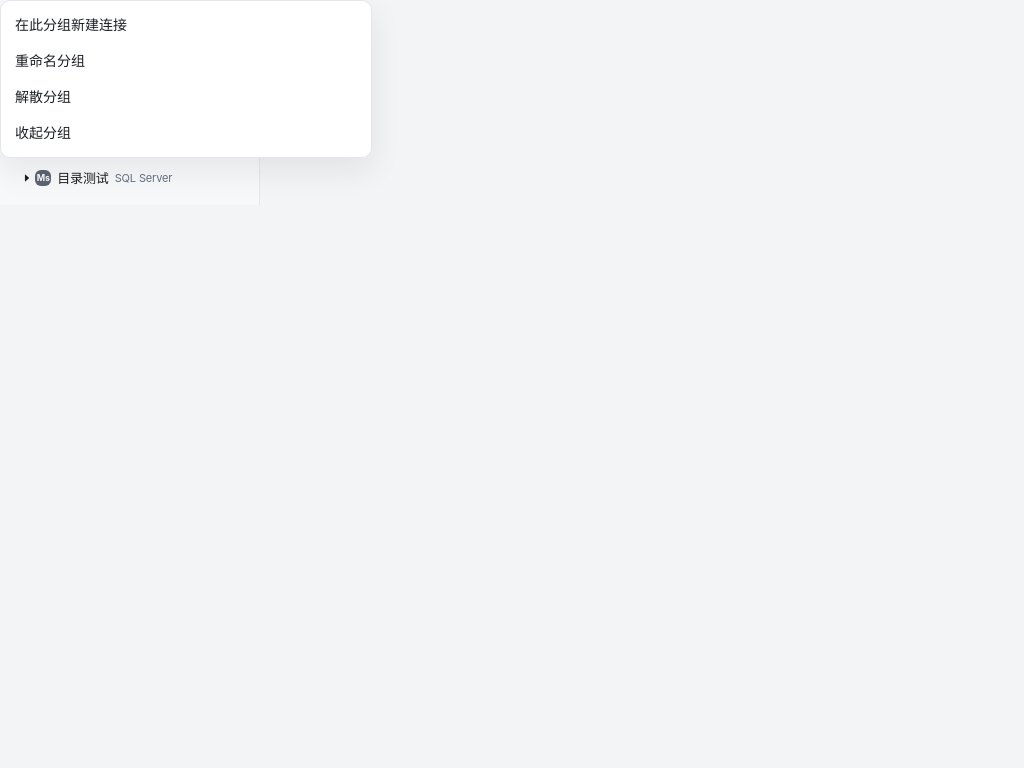
Scenario: 解散可取消，保存失败保留原树，再次提交后展开上移的子组和未分组
Earlier steps of the test are not shown.
Later steps or results of the test are not shown.
Step 1. Click the button "解散分组" → (43, 96), box [7,79,365,115]
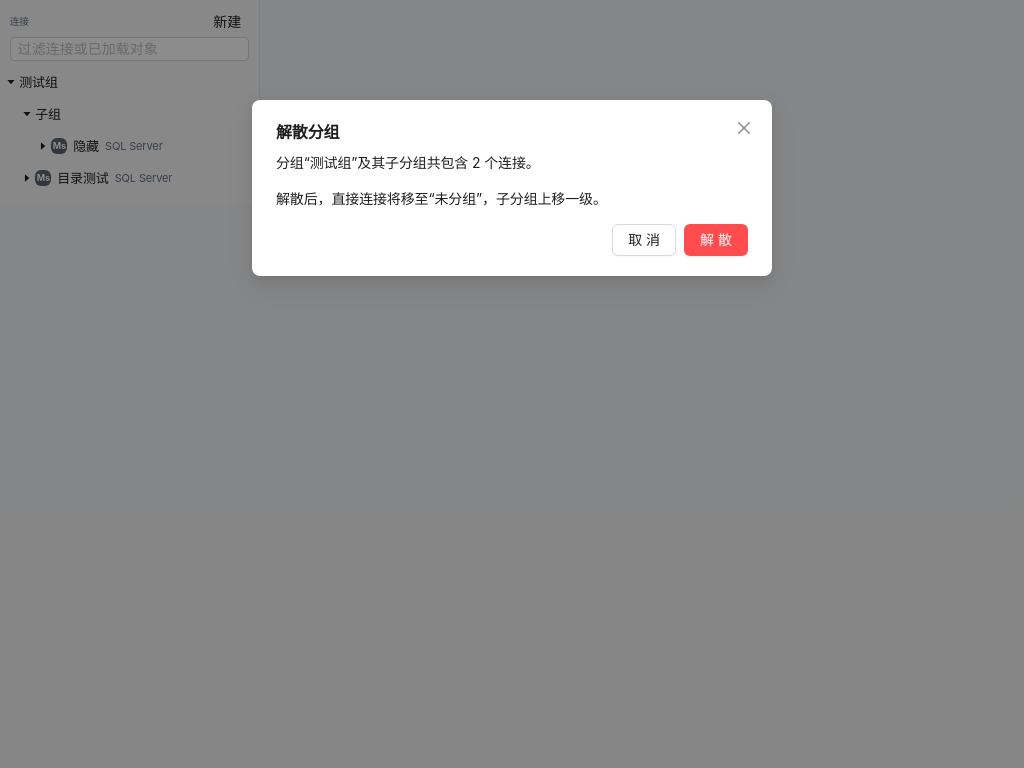
Step 2. Click the button "取 消" → (644, 240), box [612,224,676,256]
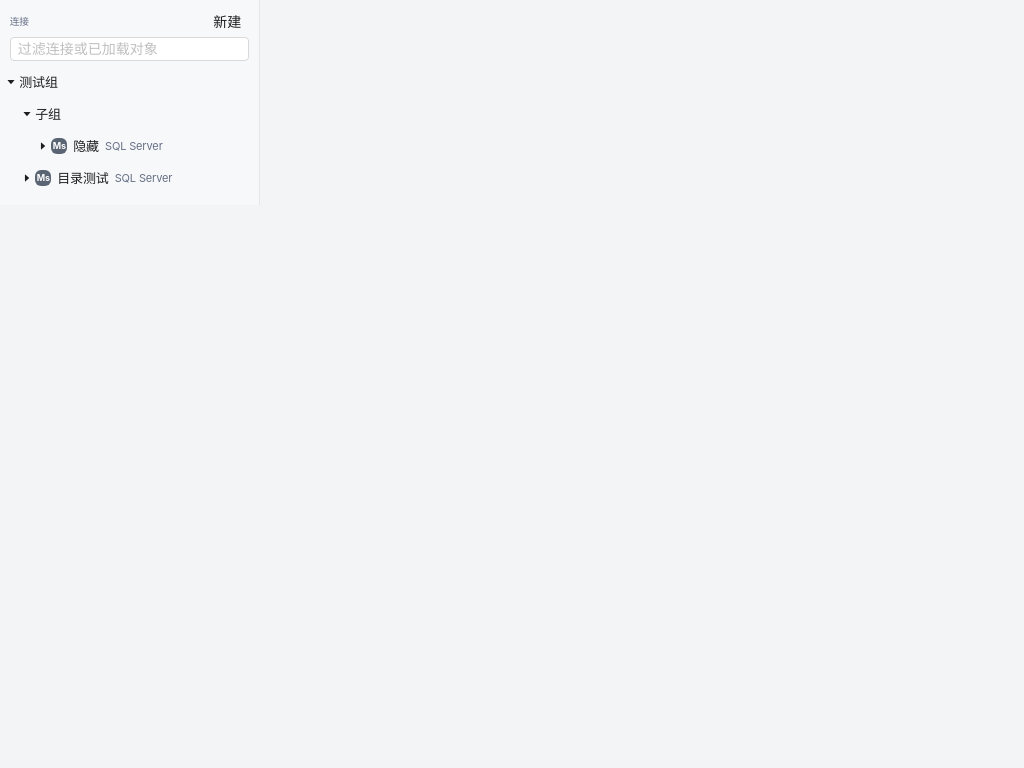
Step 3. Right-click the text "测试组" → (39, 82), box [19,74,58,90]
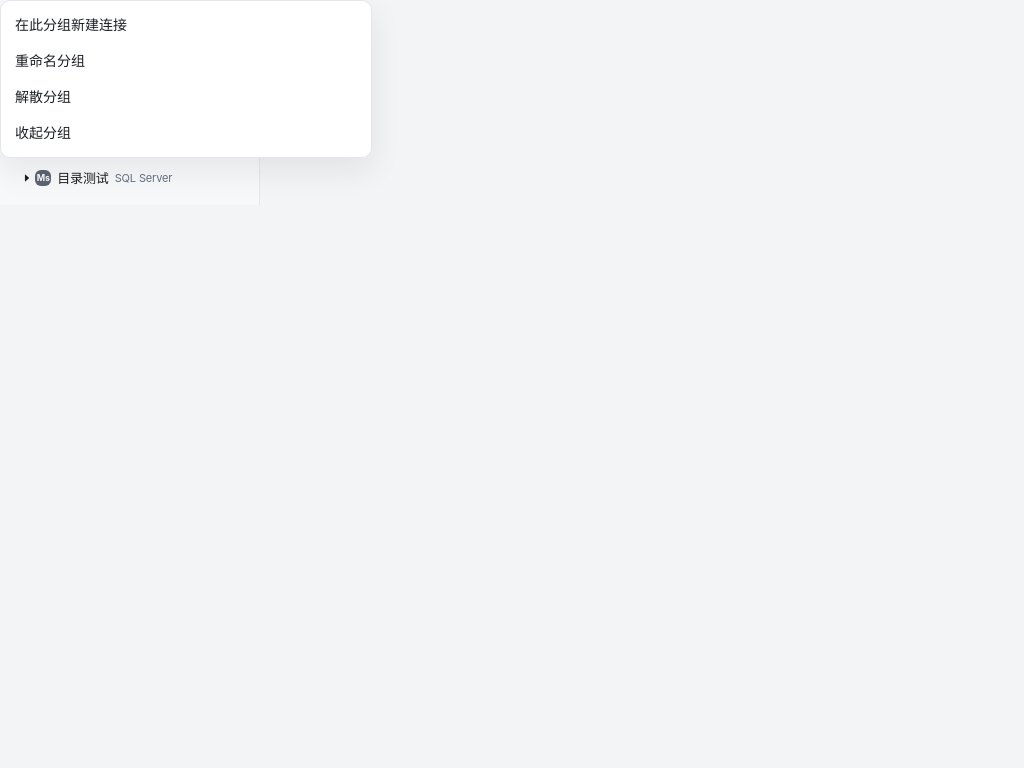
Step 4. Click the button "解散分组" → (43, 96), box [7,79,365,115]
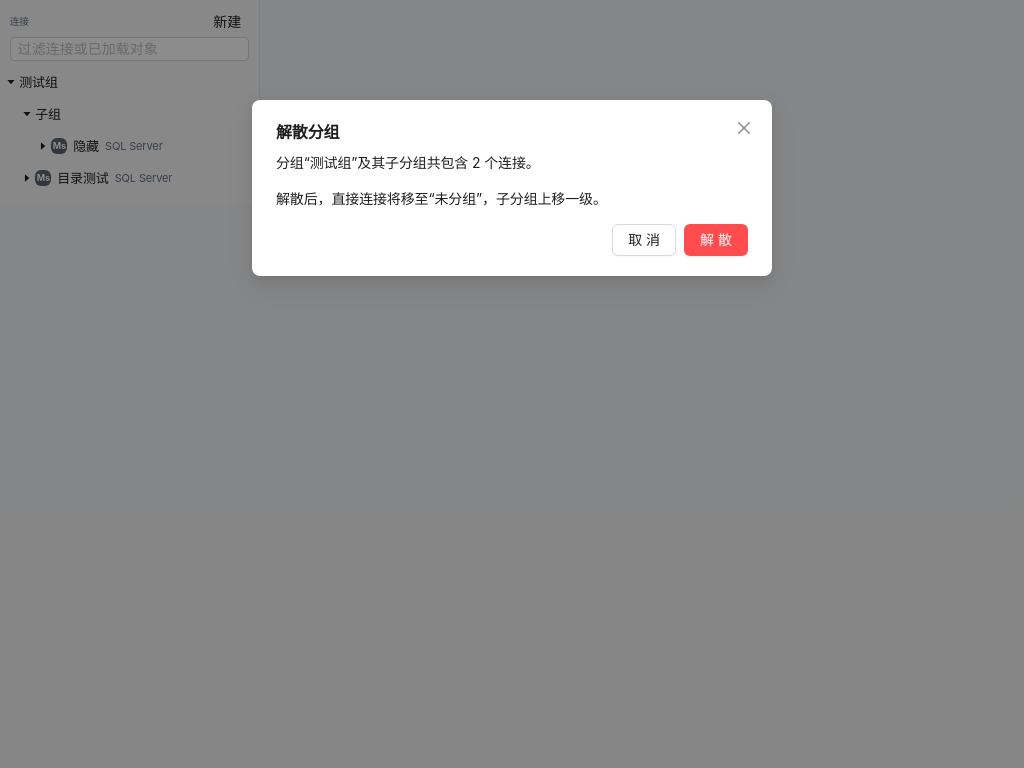
Step 5. Click the button "解 散" → (716, 240), box [684,224,748,256]
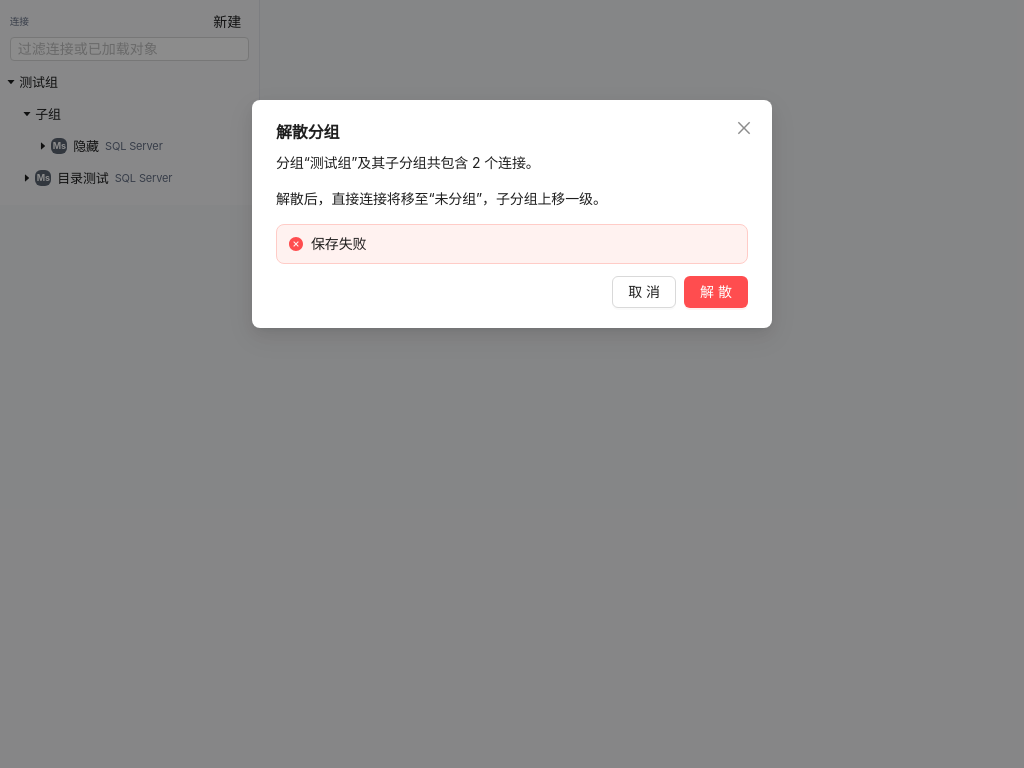
Expected: the text "目录测试" is shown, [57,170,109,186]
Expected: the text "保存失败" is shown, [311,235,366,252]
Step 6. Click the button "解 散" → (716, 292), box [684,276,748,308]
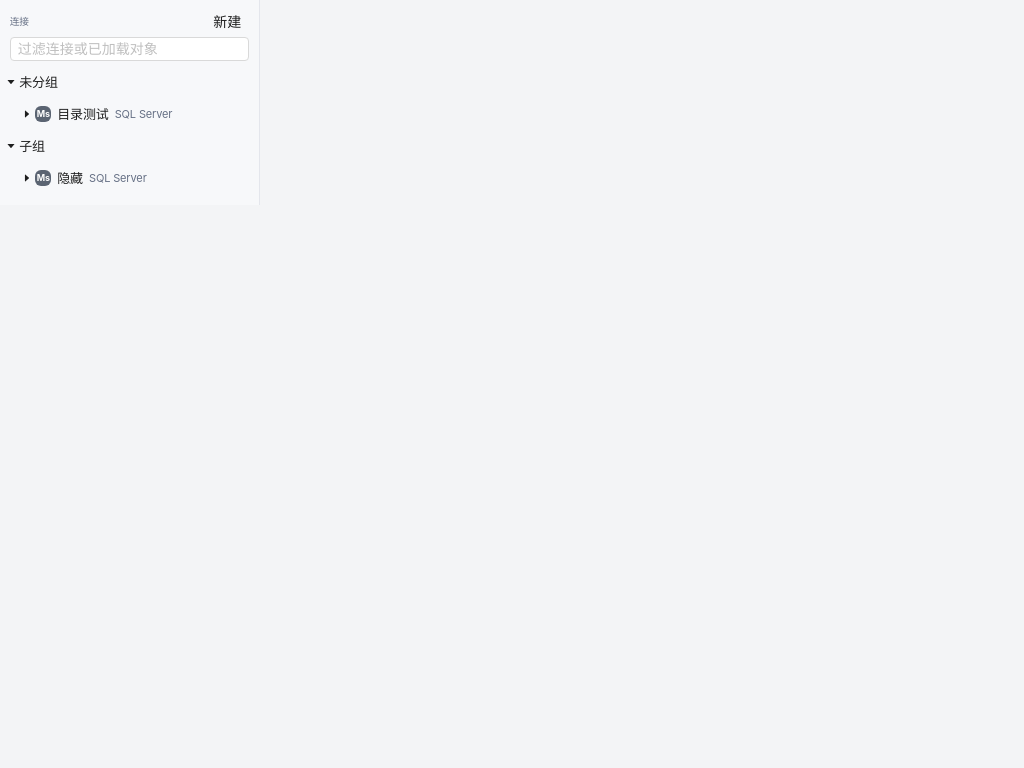
Expected: the text "目录测试" is shown, [57,106,109,122]
Expected: the text "隐藏" is shown, [57,170,83,186]
Expected: the text "未分组" is shown, [19,74,58,90]
